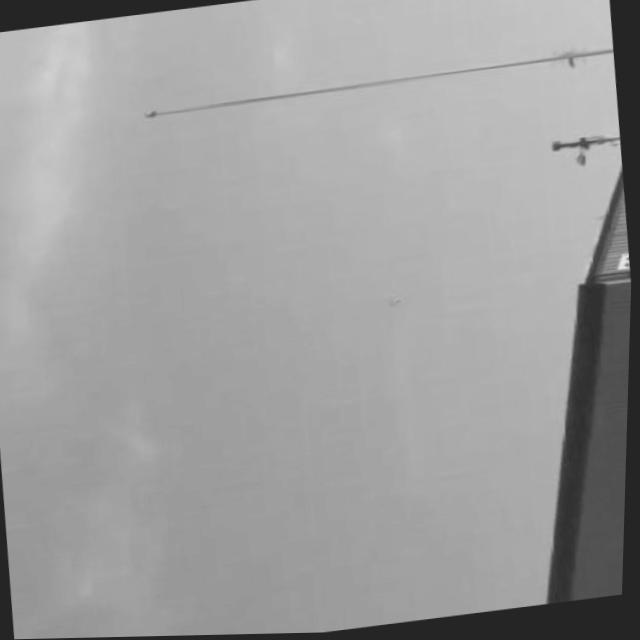helikopter: (385, 294, 408, 311)
